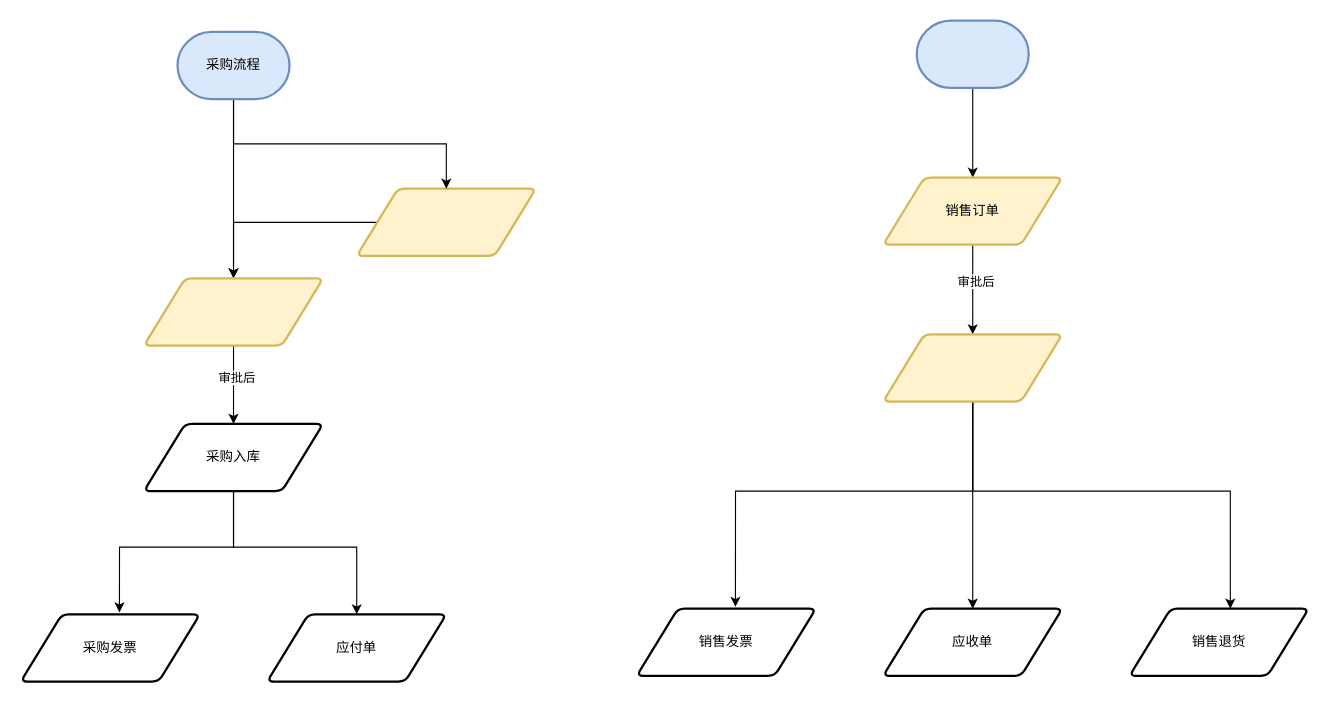
Image size: 1328x701. Some labels were removed from this diagram. The centre of each missing label's shape, as x and y in pixels:
采购申请: the point at 445,221
采购订单: the point at 233,311
销售出库: the point at 972,367
销售流程: the point at 972,53
